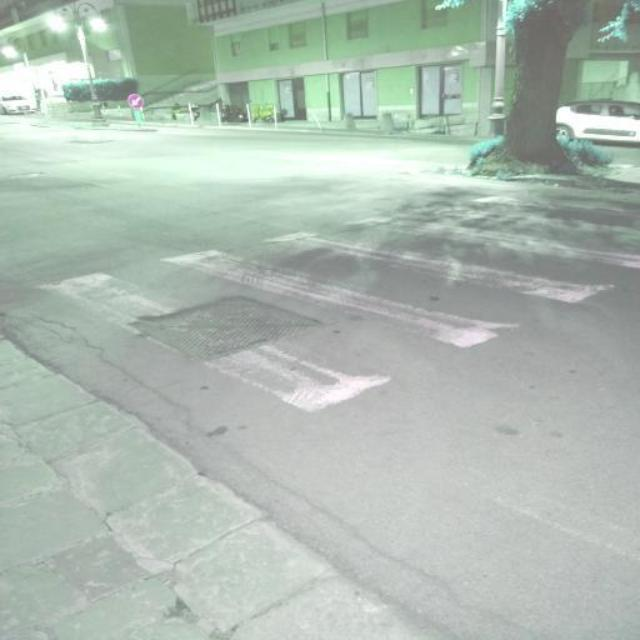sidewalk: (84, 168, 636, 417)
